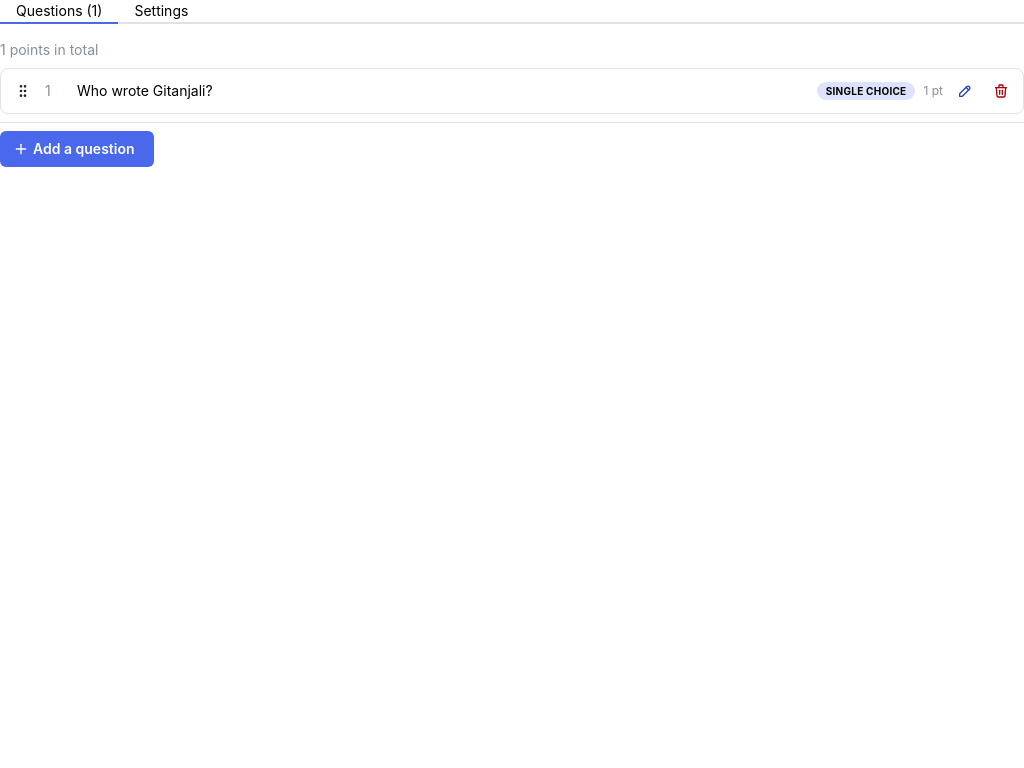
it: QuizBuilder › replaces the options when the question type changes
The image size is (1024, 768).
Click the button "Add a question" at [77, 149], box 0,131 -> 154,167
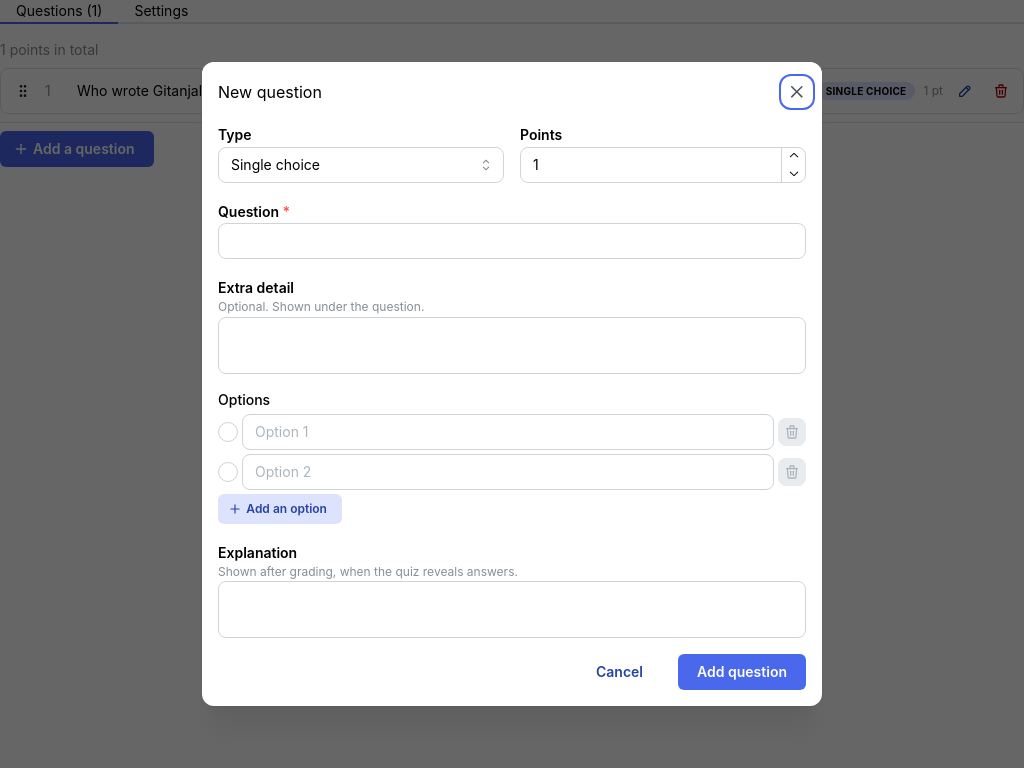
Click the field labelled "Option 1" at [508, 432], box 242,414 -> 774,450
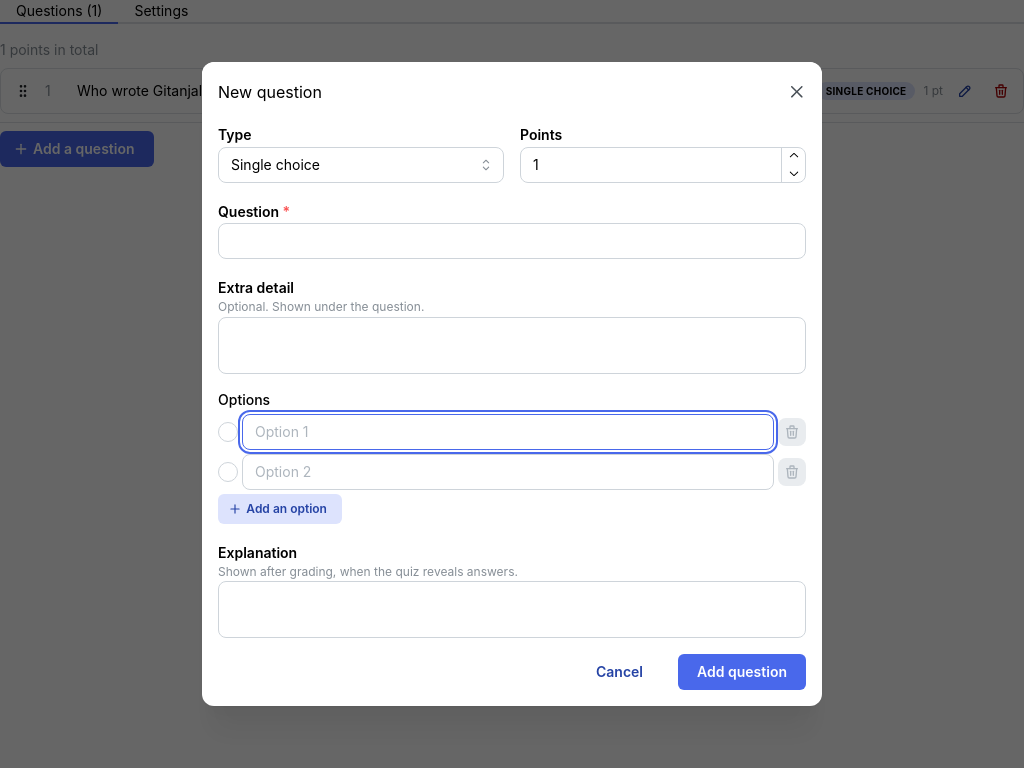
Type keys "Kolkata"
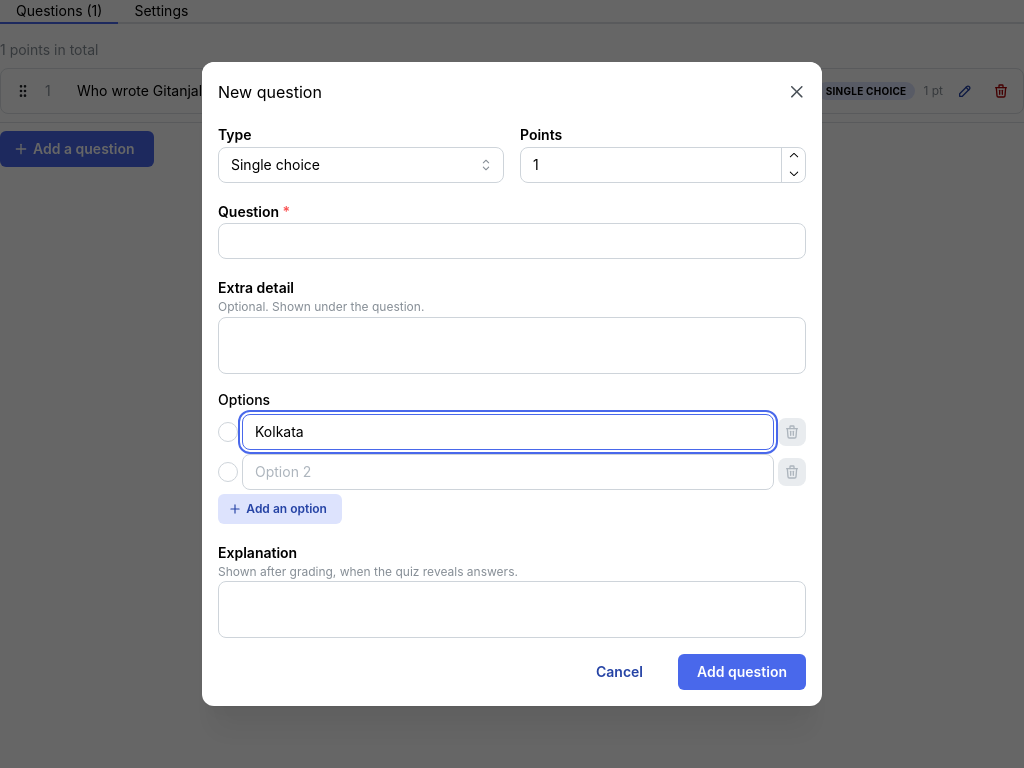
Click the dropdown labelled "Type" at [361, 165], box 218,147 -> 504,183
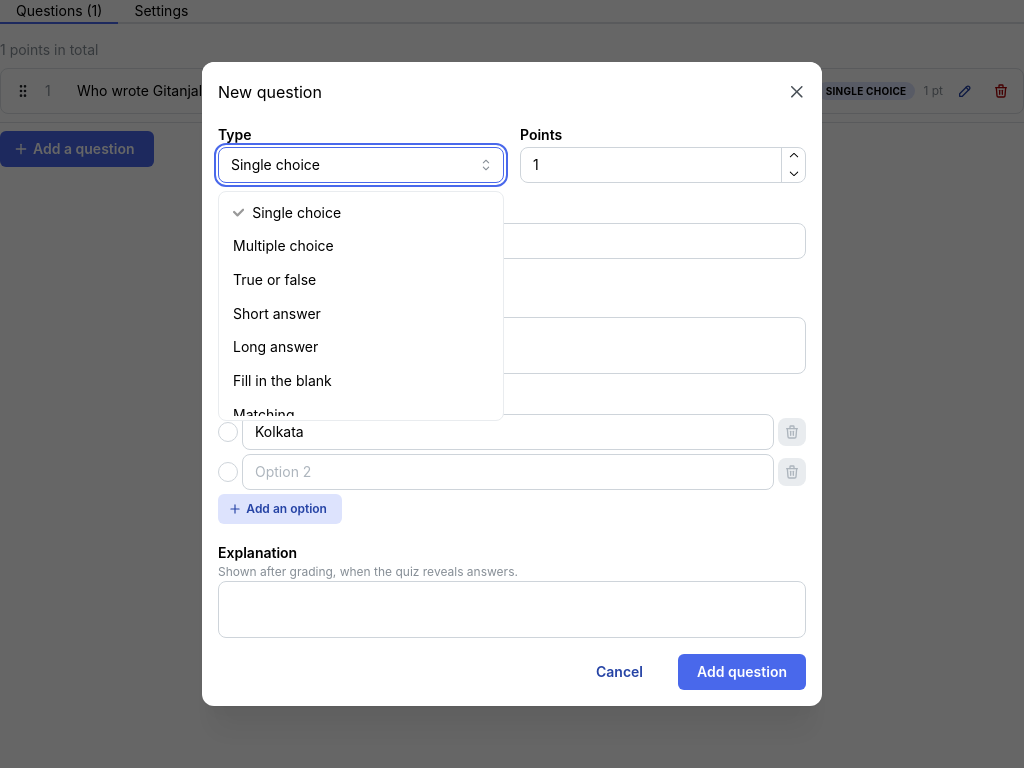
Click the option "True or false" at [275, 280], box 233,271 -> 316,288
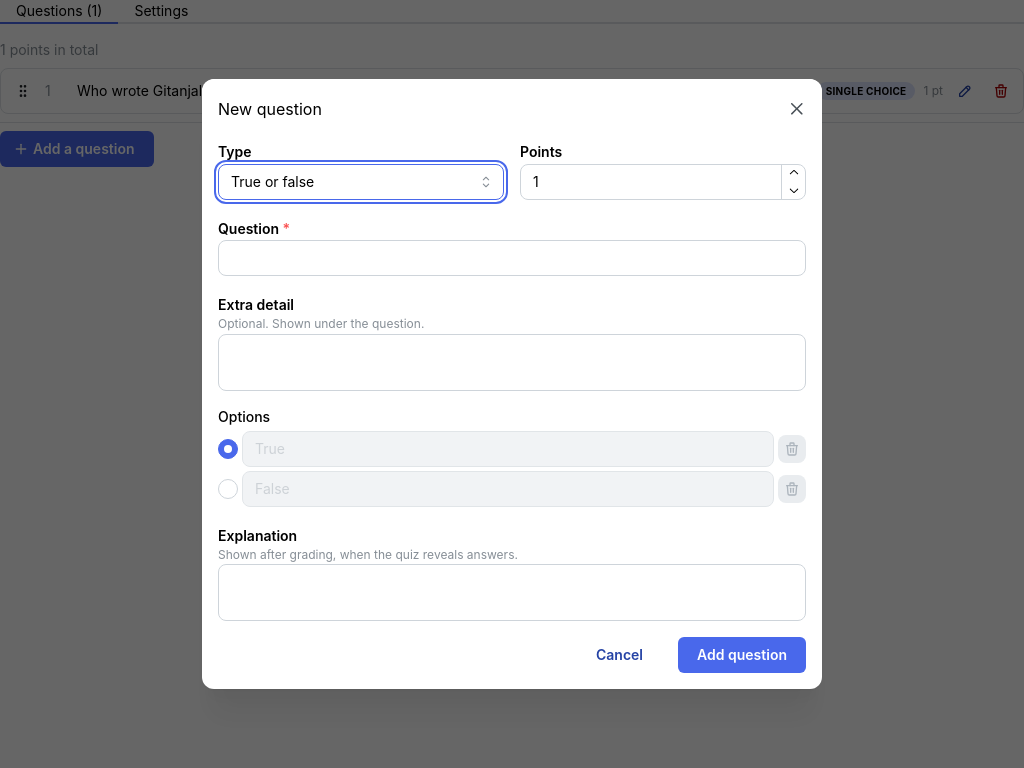
Result: the field named "Option 1" holds "True" at 242,431 -> 774,467
Result: the field named "Option 2" holds "False" at 242,471 -> 774,507
